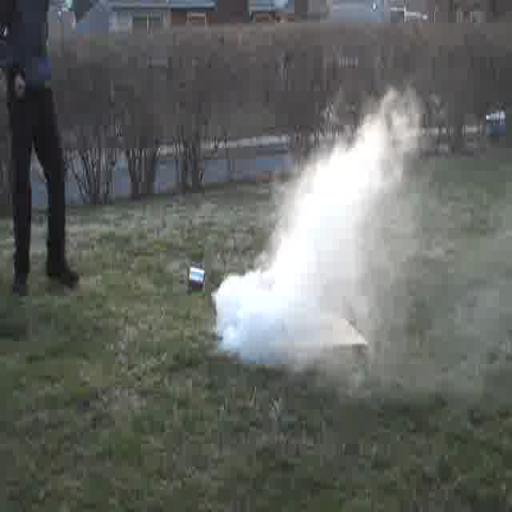smoke: (219, 117, 425, 384), (220, 107, 417, 361)
